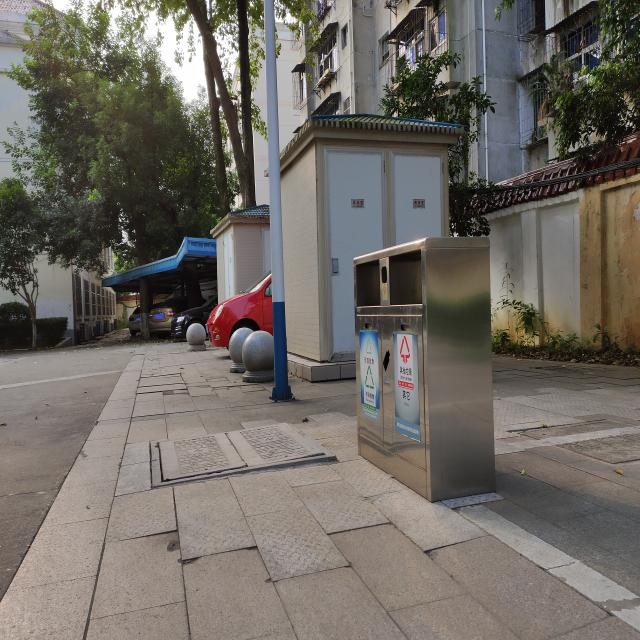ash bin: (350, 234, 497, 501)
car: (205, 270, 273, 355), (148, 296, 206, 338), (169, 294, 218, 338), (128, 306, 141, 336)
pole: (263, 4, 294, 402)
spherical_roadblock: (241, 330, 274, 383), (228, 328, 254, 374), (186, 322, 206, 351)
